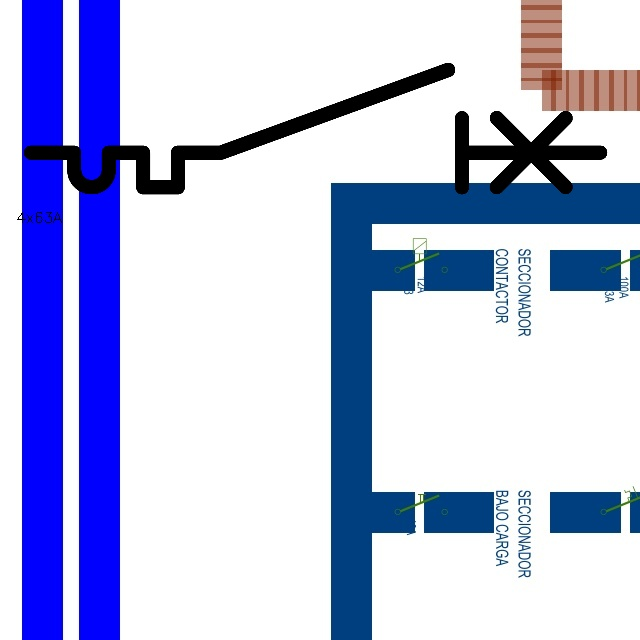interruptor_termomagnetico: (16, 55, 615, 202)
